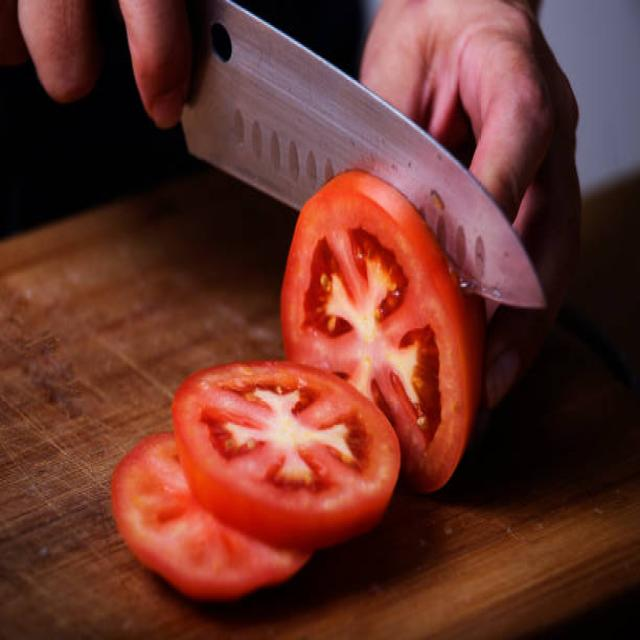Tomato: (266, 147, 488, 509), (172, 328, 391, 553)
